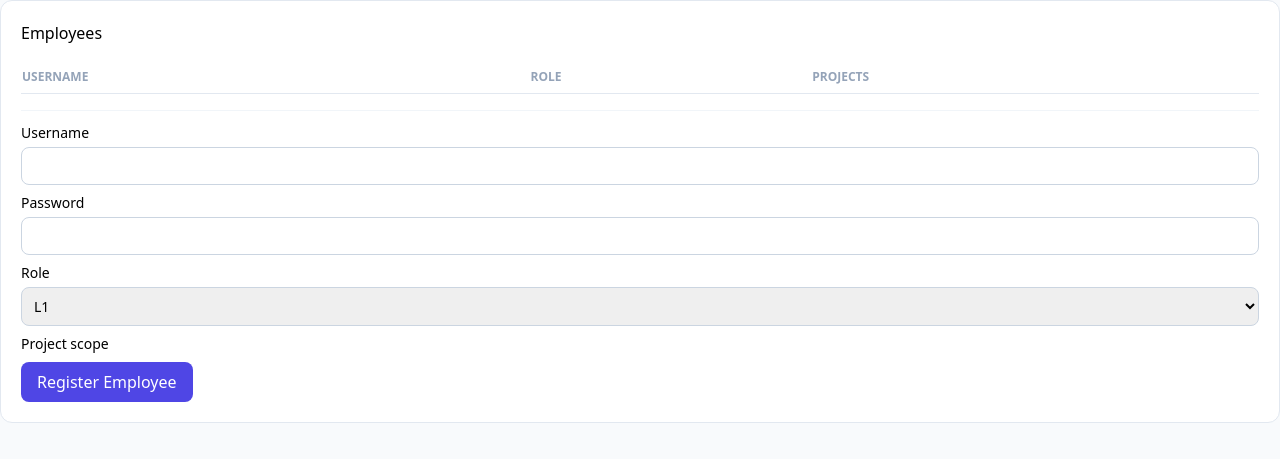
EmployeesSection register-employee validation › clears prior errors and resets the form on a successful submit
Click the button "Register Employee" at (107, 382), box [21,362,193,402]
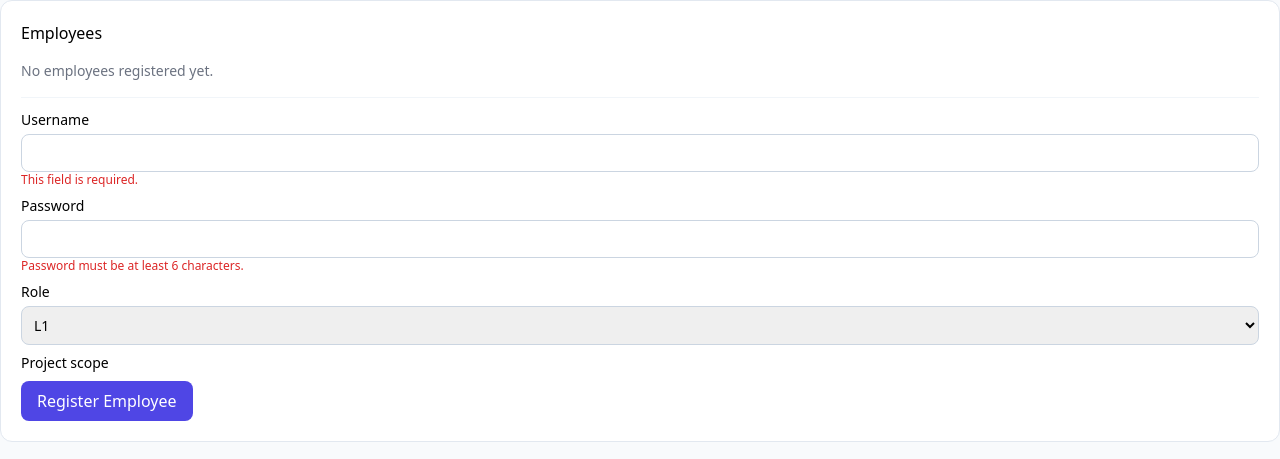
Now the text "This field is required." is shown, box [21,171,138,188]
Now the text "Password must be at least 6 characters." is shown, box [21,257,244,274]
Type "newuser" into the field labelled "Username" at (640, 153), box [21,134,1259,172]
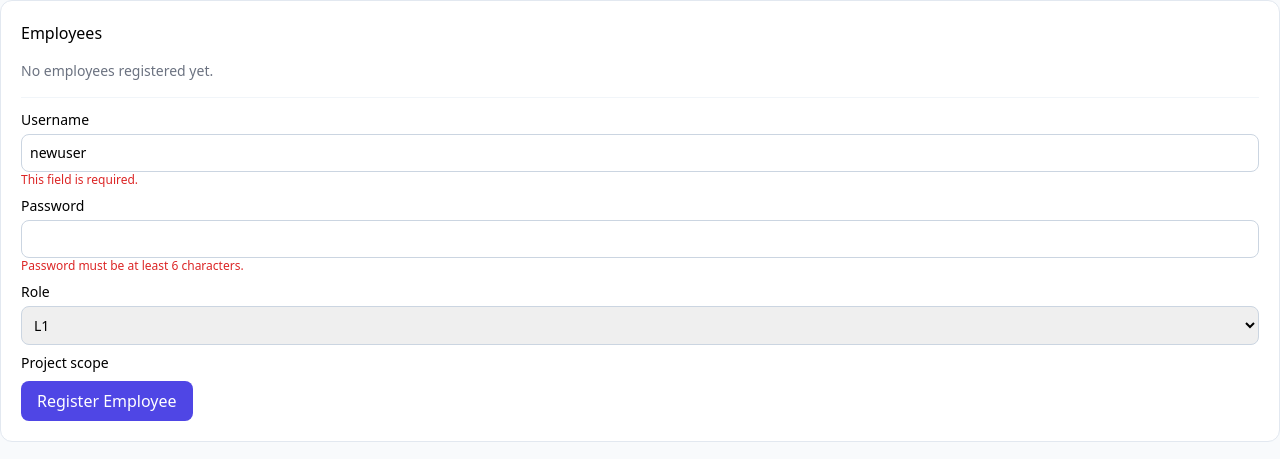
Type "longenough" into the password field labelled "Password" at (640, 239), box [21,220,1259,258]
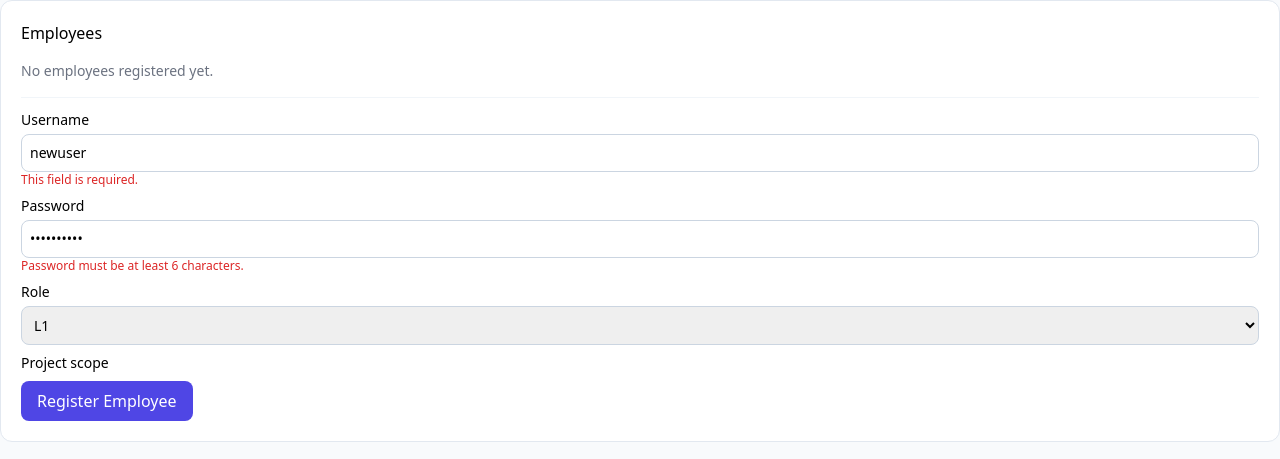
Click the button "Register Employee" at (107, 401), box [21,381,193,421]
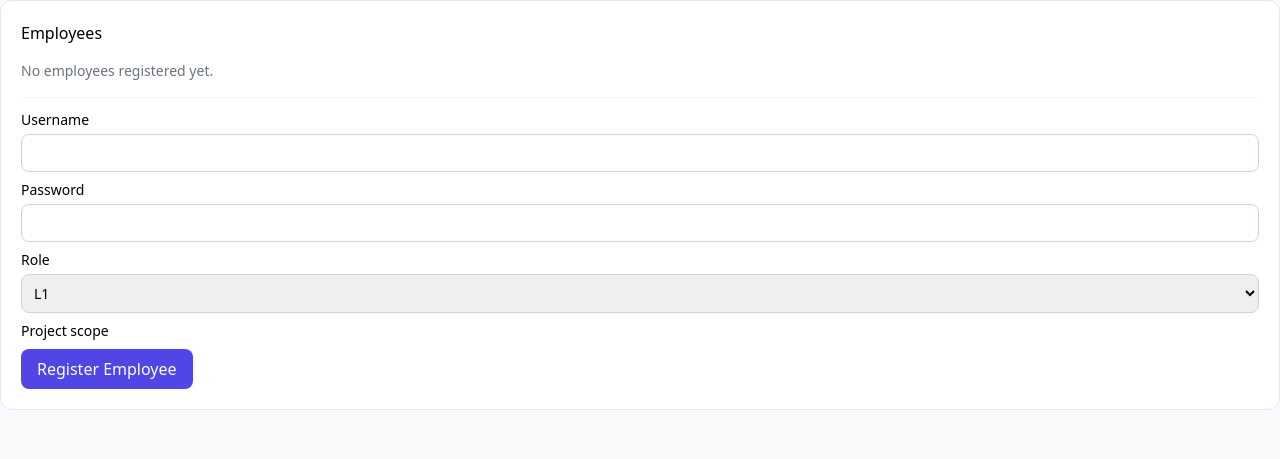
Now the text "This field is required." is gone
Now the field labelled "Username" is empty, box [21,134,1259,172]
